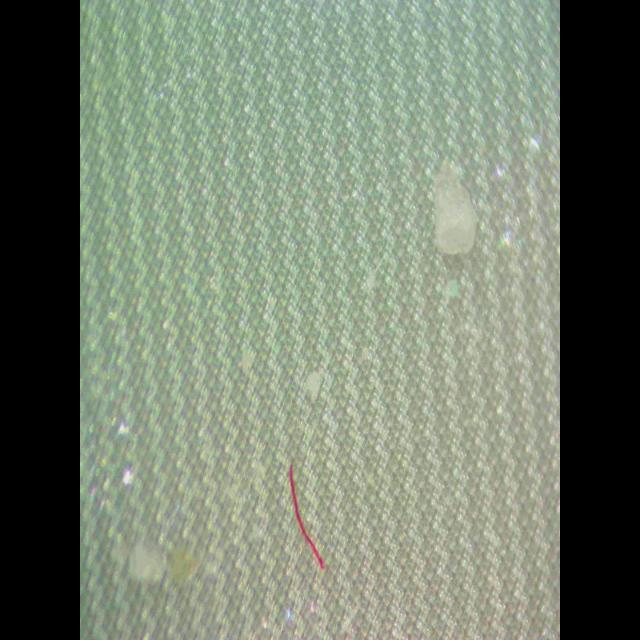Fibre: (284, 449, 328, 578)
